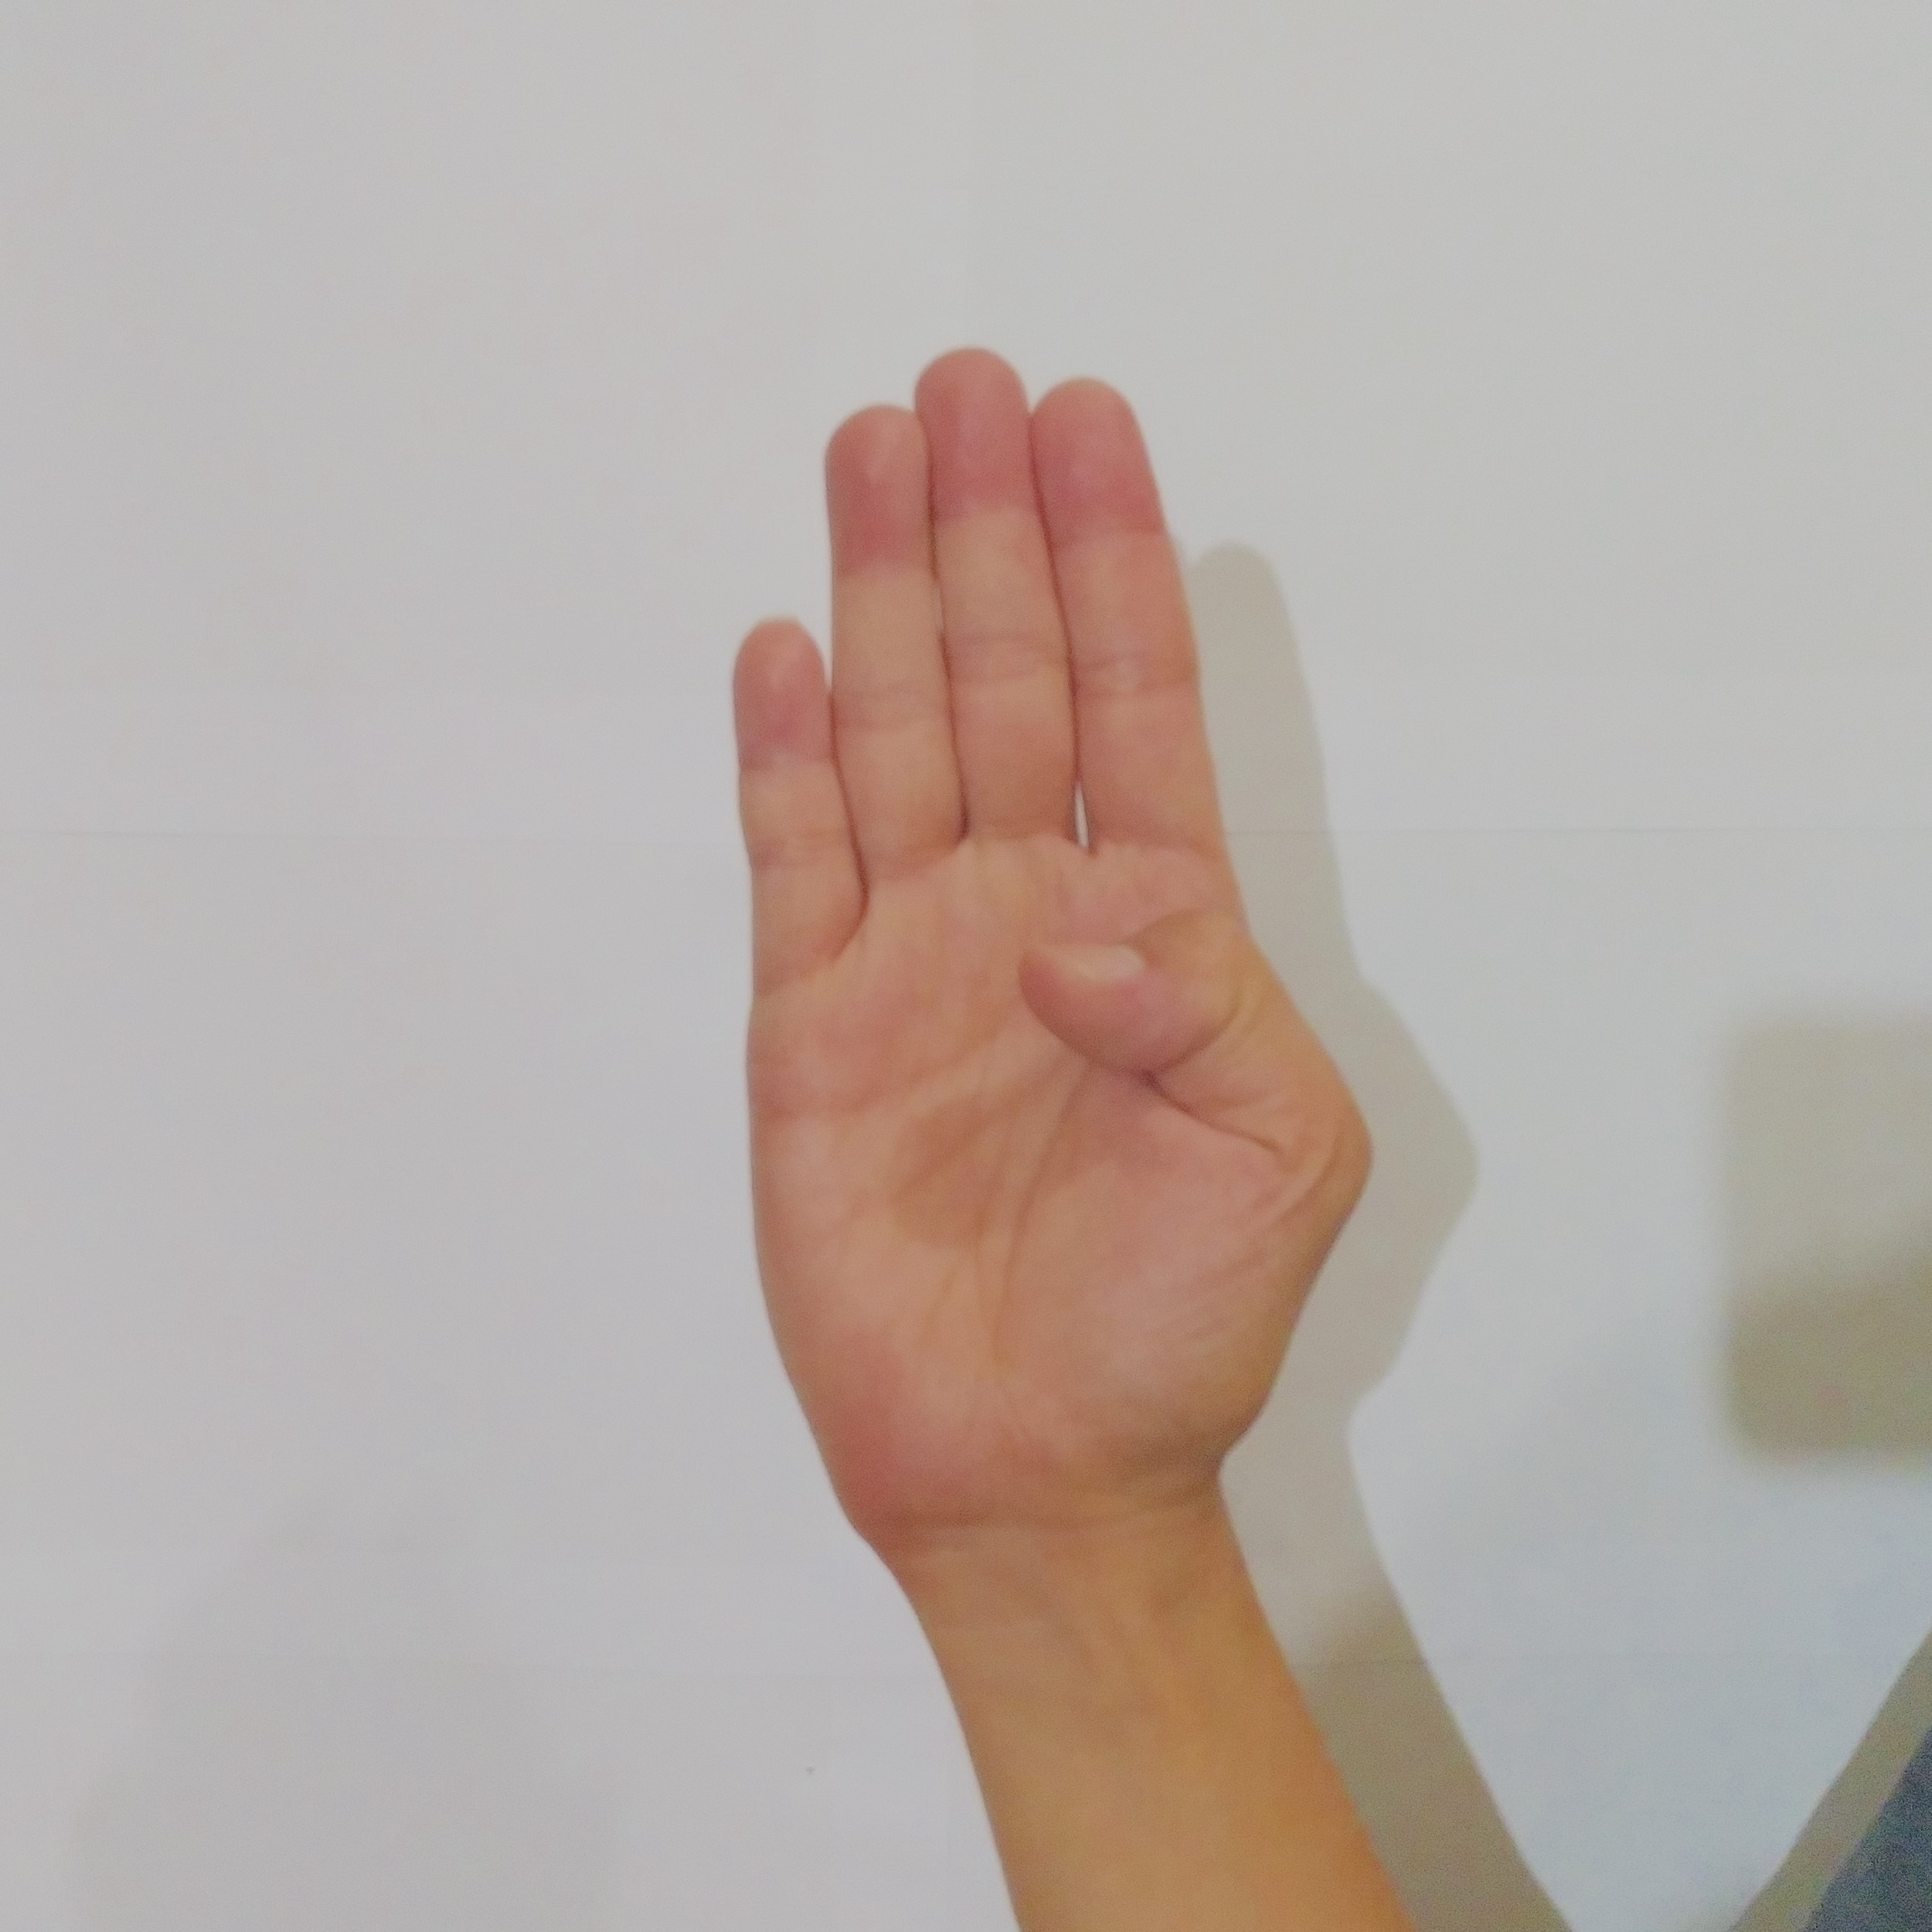B: (701, 324, 1392, 1536)
